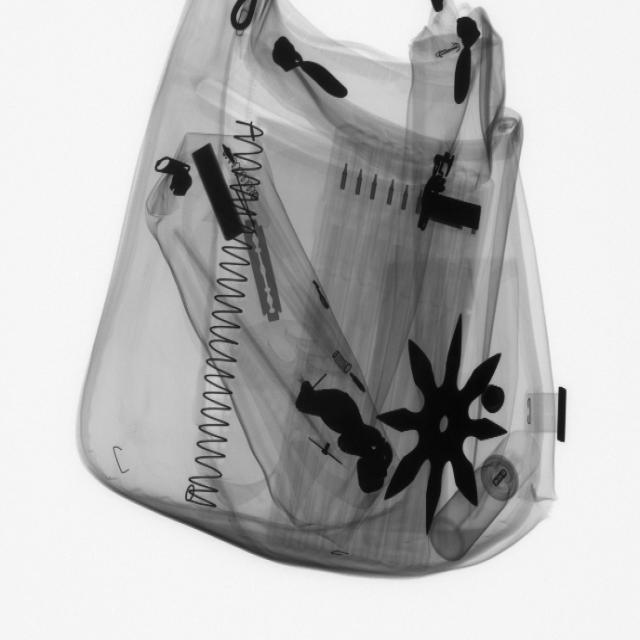BLADE: (241, 210, 287, 329)
SHURIKEN: (381, 312, 510, 536)
